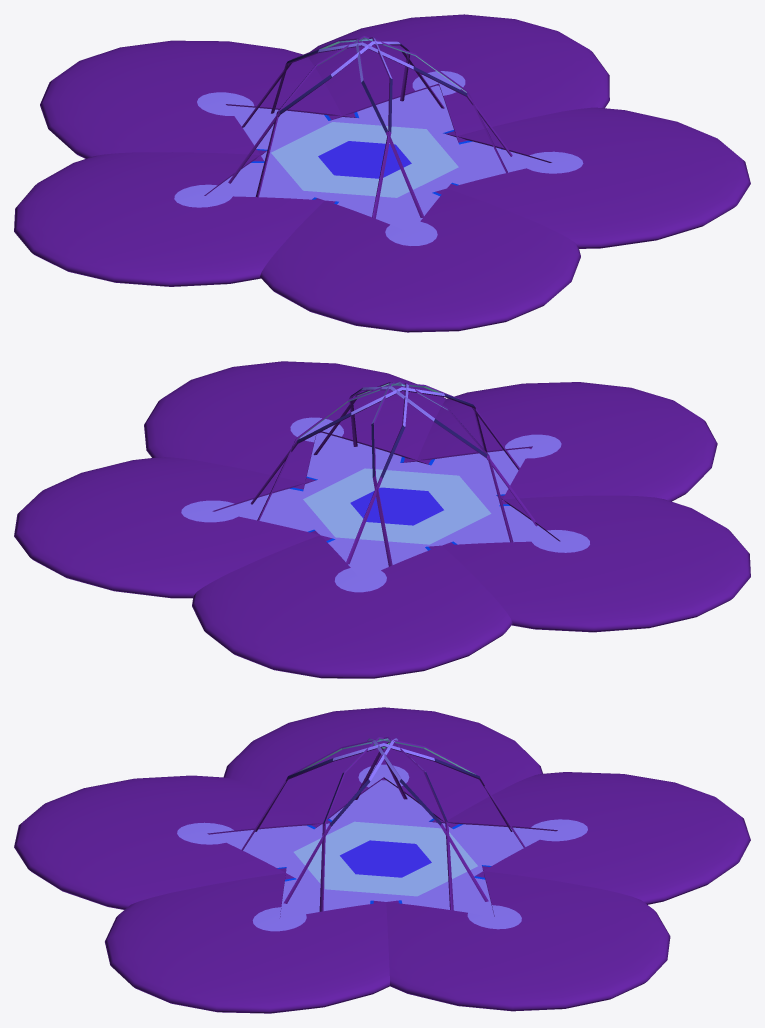
The model's file is ship.obj.
The picture shows the model from 3 angles, top to bottom: view 1: azimuth 30°, elevation 25°; view 2: azimuth 150°, elevation 25°; view 3: azimuth 270°, elevation 25°; orthographic projection.
Visible parts, largest first — view 1: pSphere13, pDisc1; view 2: pSphere13, pDisc1; view 3: pSphere13, pDisc1.
Part boxes in pixels (x1,y1,x2,y2): pSphere13: (14, 14, 750, 332); pDisc1: (206, 85, 549, 232); pSphere13: (14, 361, 750, 678); pDisc1: (215, 432, 558, 578); pSphere13: (14, 707, 750, 1013); pDisc1: (210, 780, 555, 918).
Size of the model in its own units: 49.83 by 17.1 by 51.24.
